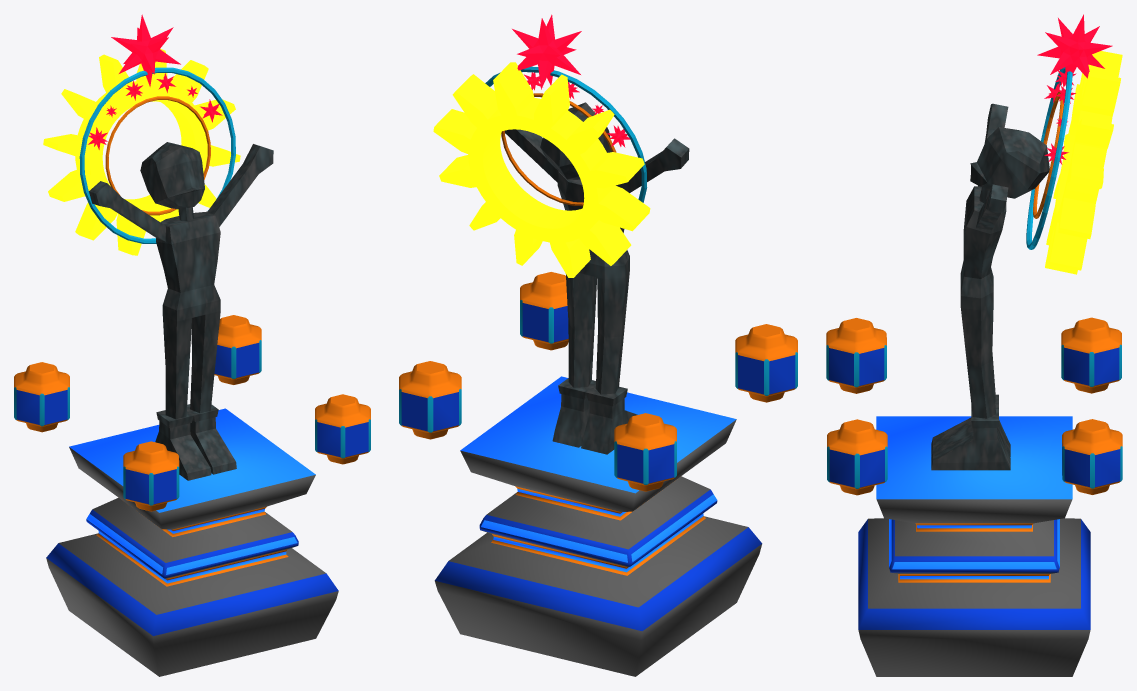
The model's file is godly shrine .fbx.
3 renders of one model, left to right at view 1: azimuth 30°, elevation 25°; view 2: azimuth 150°, elevation 25°; view 3: azimuth 270°, elevation 25°, orthographic. The views are drawn at different scales.
Parts seen in each view (by area): view 1: warrior; view 2: warrior; view 3: warrior.
Boxes of the visible parts, x1=… form: warrior: x1=14, y1=14, x2=370, y2=676; warrior: x1=399, y1=14, x2=797, y2=676; warrior: x1=826, y1=14, x2=1122, y2=676.
Bounding box in the file's own units: 206 × 458 × 198.
